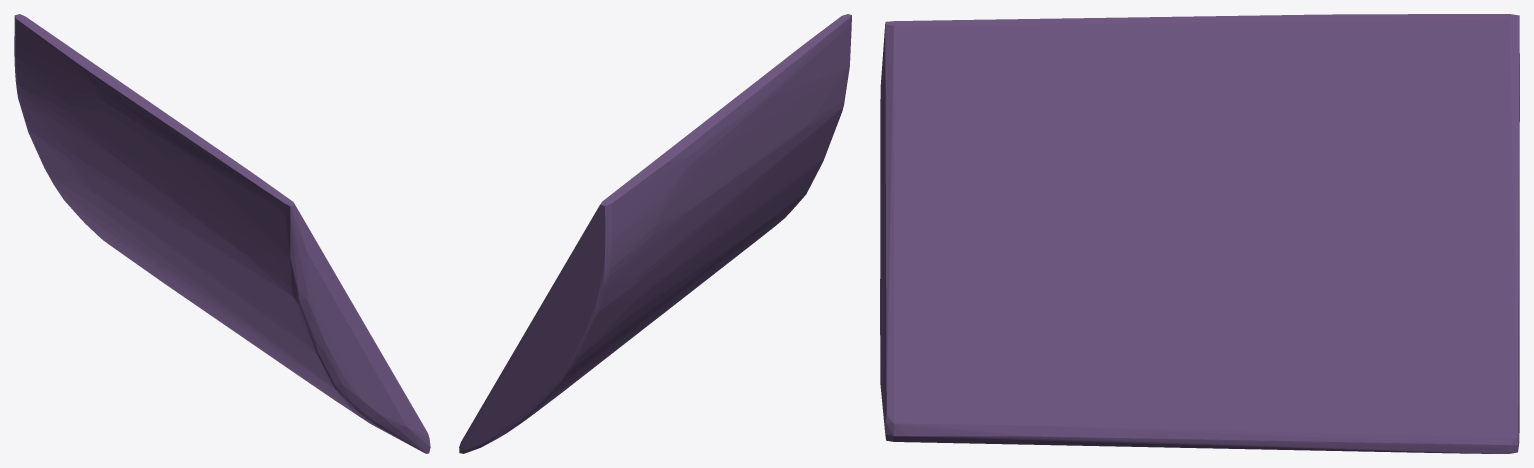
The model's file is left-shoulder-yaw-0_part_1.obj.
3 renders of one model, left to right at view 1: azimuth 30°, elevation 25°; view 2: azimuth 150°, elevation 25°; view 3: azimuth 270°, elevation 25°, orthographic. The views are drawn at different scales.
Size of the model in its own units: 0.0192 by 0.0339 by 0.0562.
